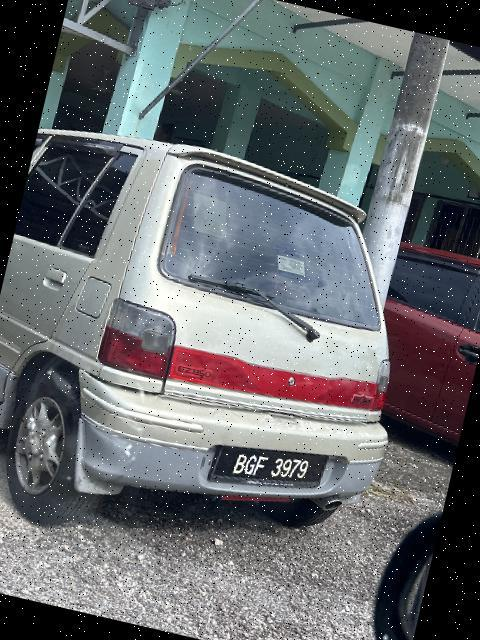BGF3979: (207, 426, 331, 510)
License_Plate: (207, 426, 331, 510)
car: (1, 107, 443, 593), (318, 207, 480, 438)
